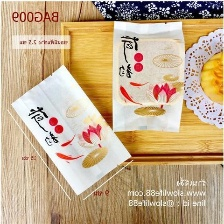snack: (7, 59, 136, 200), (106, 14, 189, 137)
